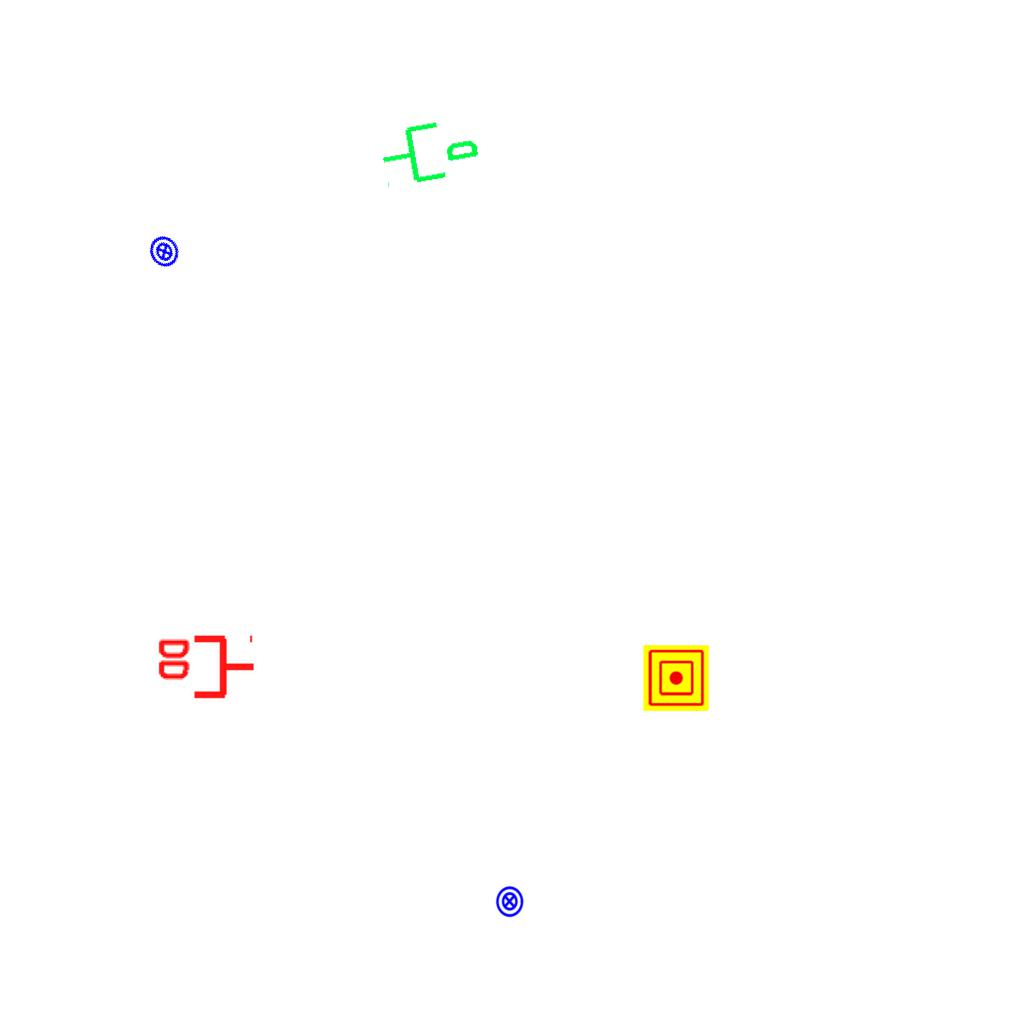Datenanschluss_einfach: (374, 107, 485, 193)
Datenanschluss_zweifach: (154, 634, 257, 703)
NAM-Nichtautomatischer_Melder: (643, 645, 709, 711)
Taster_beleuchtet: (142, 229, 187, 274), (493, 885, 526, 918)
